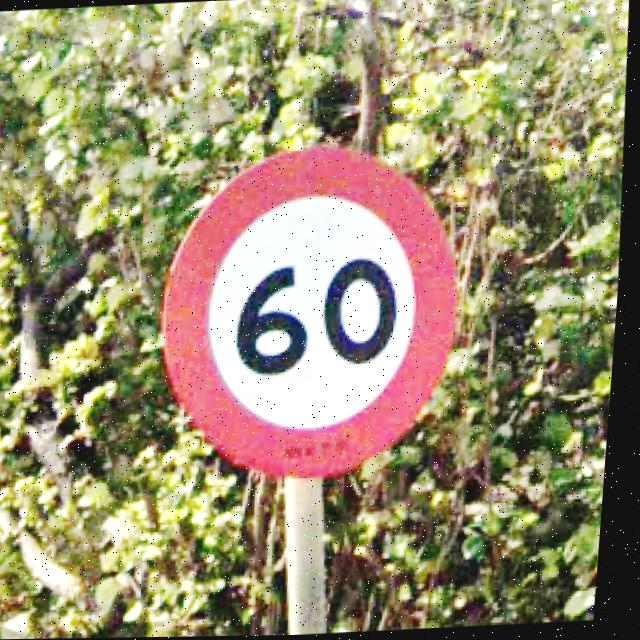max60: (148, 136, 479, 485)
